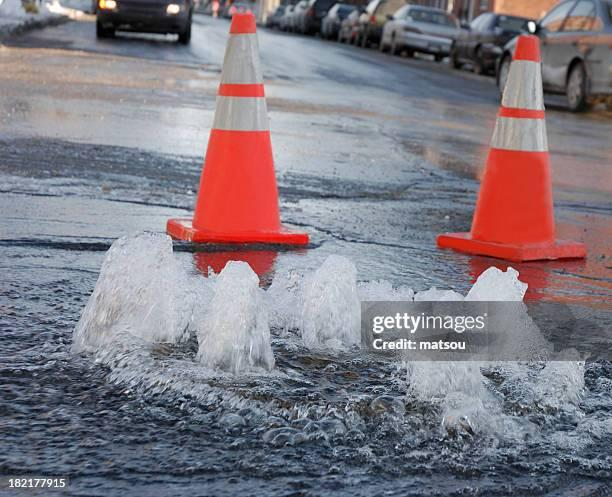water_leak: (0, 239, 612, 497)
